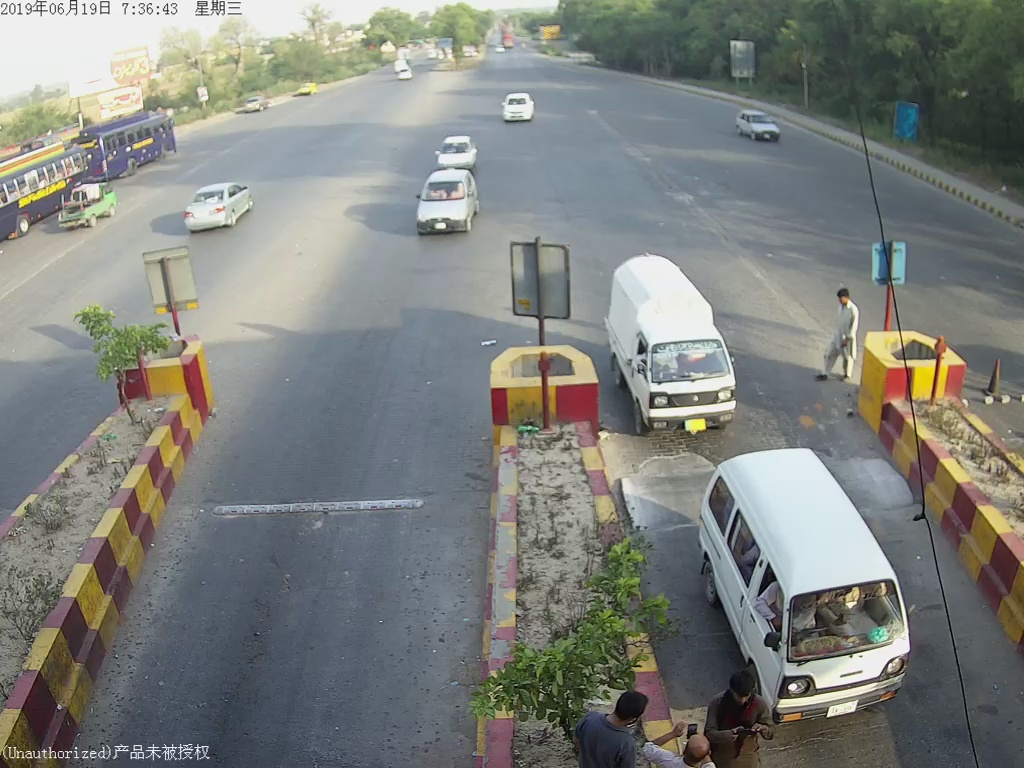Cat-1: (696, 434, 926, 722), (608, 248, 740, 433), (174, 177, 253, 225), (414, 172, 475, 234), (735, 105, 785, 147), (432, 132, 482, 170), (500, 84, 537, 123)
